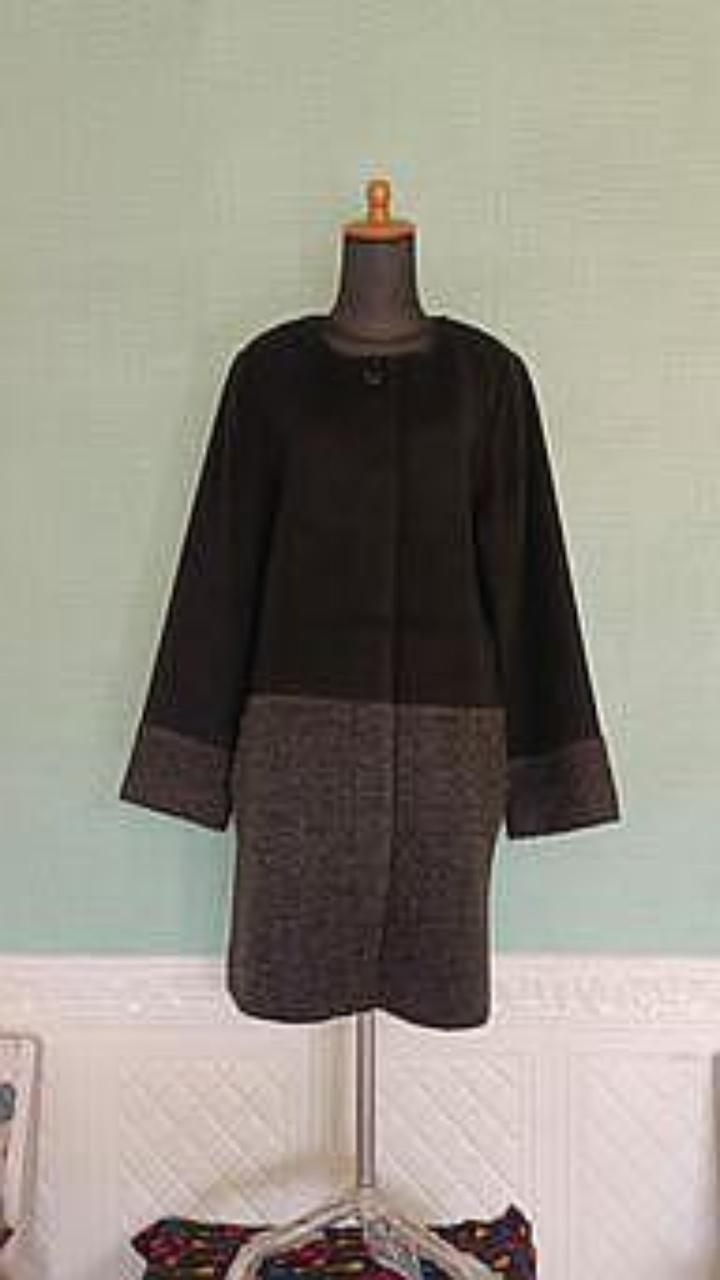Coat: (120, 313, 619, 1028)
